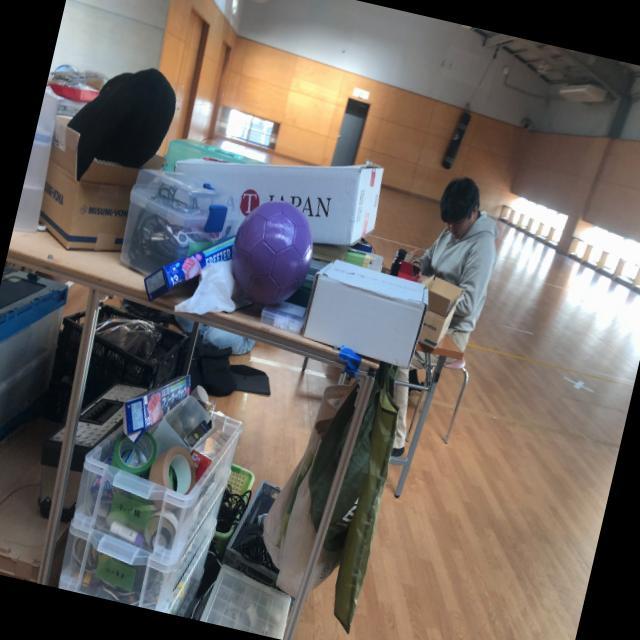purple_ball: (220, 196, 320, 314)
